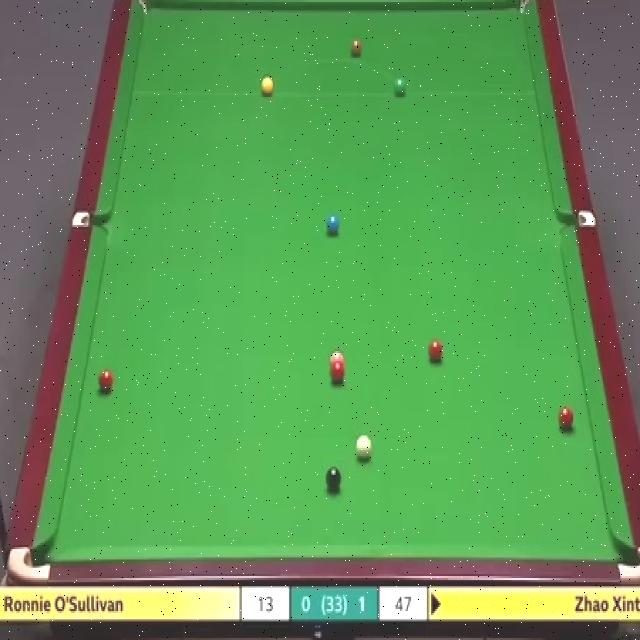black-ball: (326, 464, 342, 491)
blue-ball: (326, 212, 341, 235)
brown-ball: (350, 38, 362, 58)
green-ball: (393, 76, 406, 97)
pink-ball: (329, 351, 345, 366)
red-ball: (98, 367, 115, 394), (558, 408, 575, 431), (329, 363, 346, 384), (428, 339, 442, 364)
white-ball: (355, 436, 373, 461)
yellow-ball: (262, 78, 276, 98)
